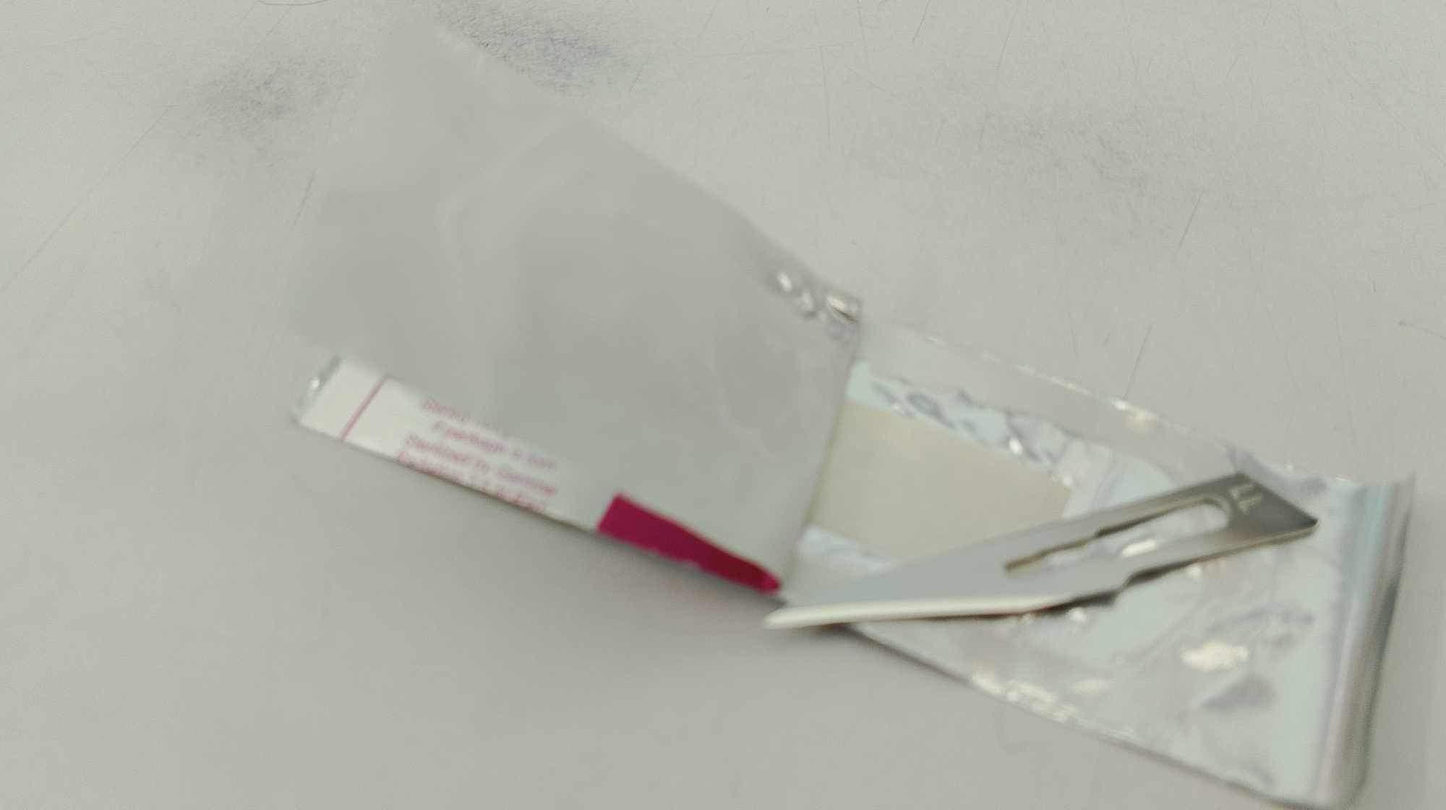Pathological: (764, 319, 1414, 806)
Sharps: (289, 351, 782, 597), (761, 469, 1319, 634)
